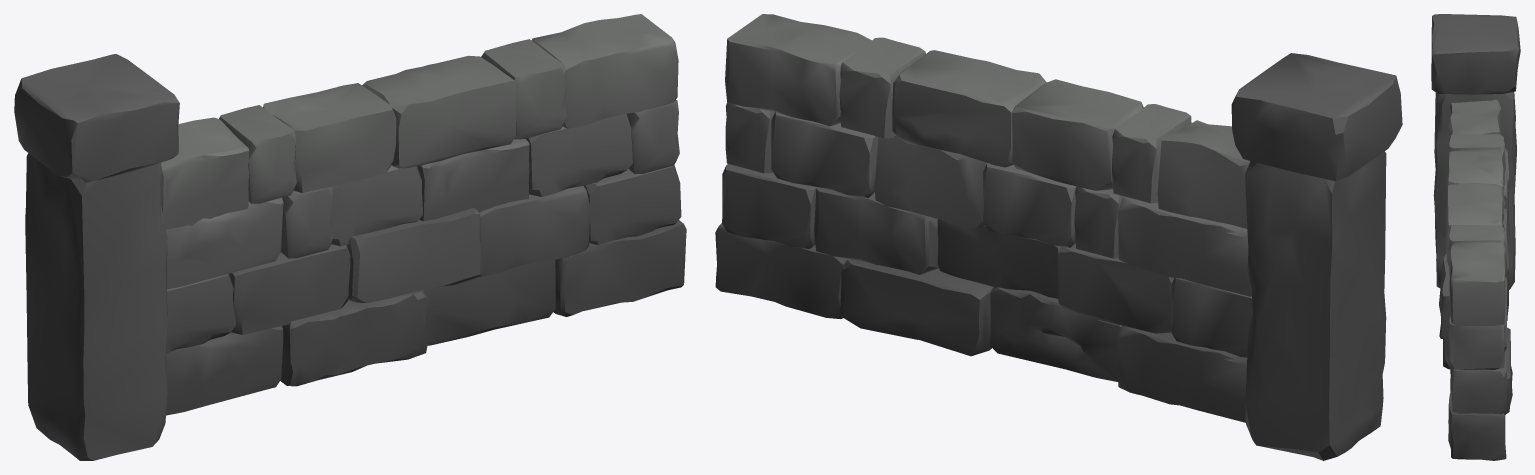
The model's file is BrickWall_3.fbx.
3 views of the same model, side by side, from view 1: azimuth 30°, elevation 25°; view 2: azimuth 150°, elevation 25°; view 3: azimuth 270°, elevation 25° (orthographic). The views are drawn at different scales.
Visible parts, largest first — view 1: BrickWall_3; view 2: BrickWall_3; view 3: BrickWall_3.
Part boxes in pixels (x1,y1,x2,y2): BrickWall_3: (14, 14, 686, 460); BrickWall_3: (715, 14, 1402, 460); BrickWall_3: (1431, 14, 1520, 460).
Size of the model in its own units: 340 by 180 by 58.85.
